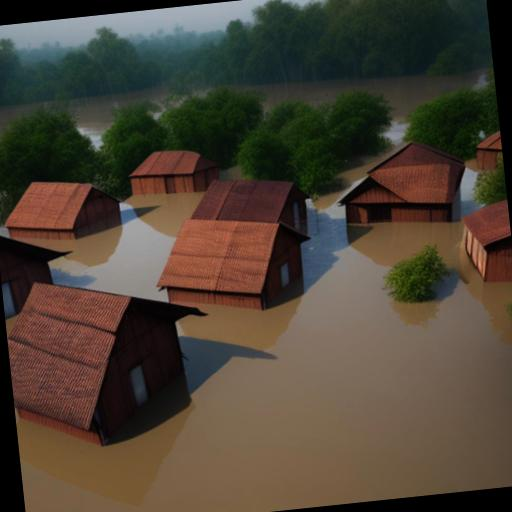house: (2, 262, 222, 458), (148, 212, 324, 324), (330, 132, 470, 240), (2, 172, 124, 258), (0, 218, 75, 330), (124, 142, 222, 204), (188, 173, 304, 224), (454, 187, 512, 288), (470, 120, 504, 173)
